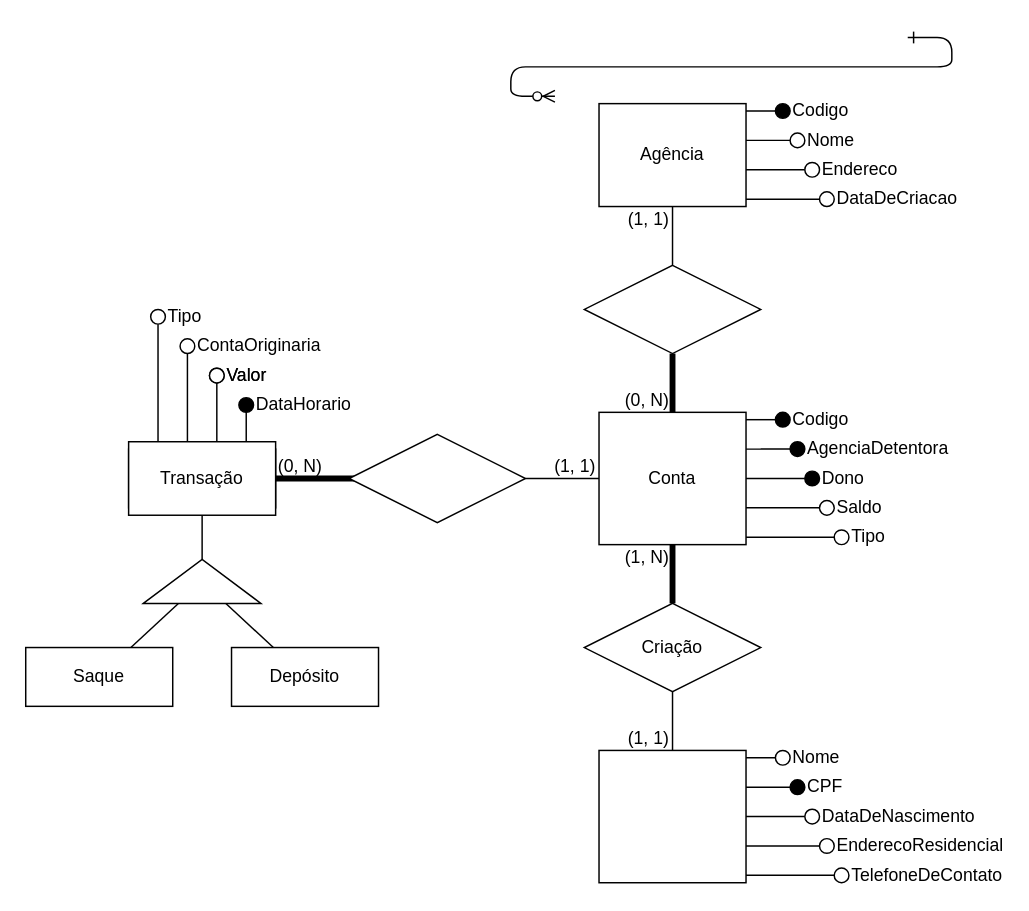
Some shapes in this 1029 by 911 pixel diagram are drawn without their labels. Each missing label, with the centre of its shape:
"Cliente" goes at (x=672, y=816).
"Gerência" goes at (x=672, y=309).
"Realização" goes at (x=437, y=478).
